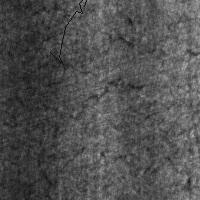crazing: (18, 58, 150, 115), (36, 143, 175, 181), (50, 0, 128, 64), (91, 16, 198, 56)
